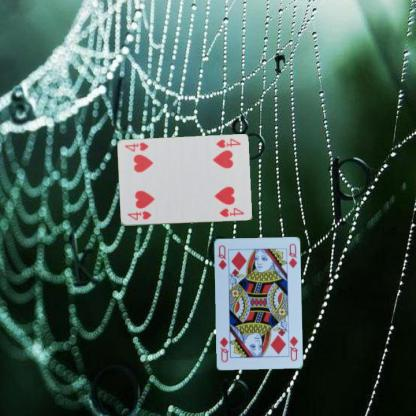4h: (214, 136, 241, 150), (125, 209, 152, 221)
Qd: (285, 332, 299, 362), (215, 243, 228, 271)
